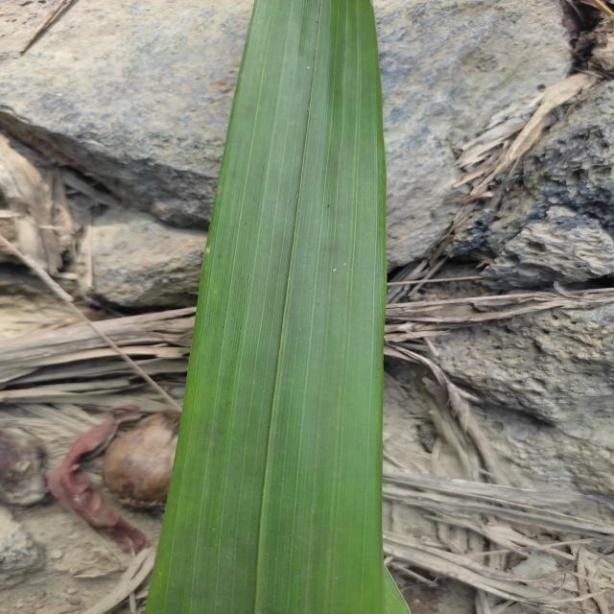Healthy: (155, 0, 384, 614)
